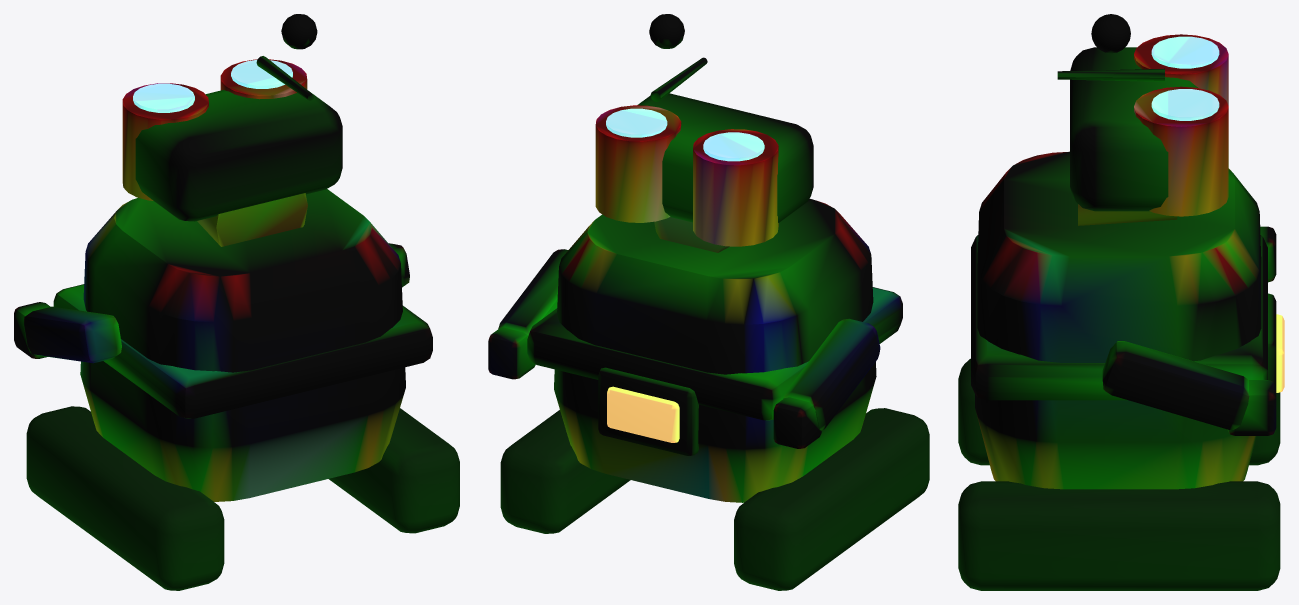
File: hero_helper_bot.glb
3 views of the same model, side by side, from view 1: azimuth 30°, elevation 25°; view 2: azimuth 150°, elevation 25°; view 3: azimuth 270°, elevation 25° (orthographic). The views are drawn at different scales.
Visible parts, largest first — view 1: HeroHelperBot; view 2: HeroHelperBot; view 3: HeroHelperBot.
Part boxes in pixels (left/top/right/bottom): HeroHelperBot: left=14, top=14, right=459, bottom=590; HeroHelperBot: left=488, top=14, right=929, bottom=590; HeroHelperBot: left=958, top=14, right=1284, bottom=590.
Size of the model in its own units: 1 by 1.42 by 0.79.
